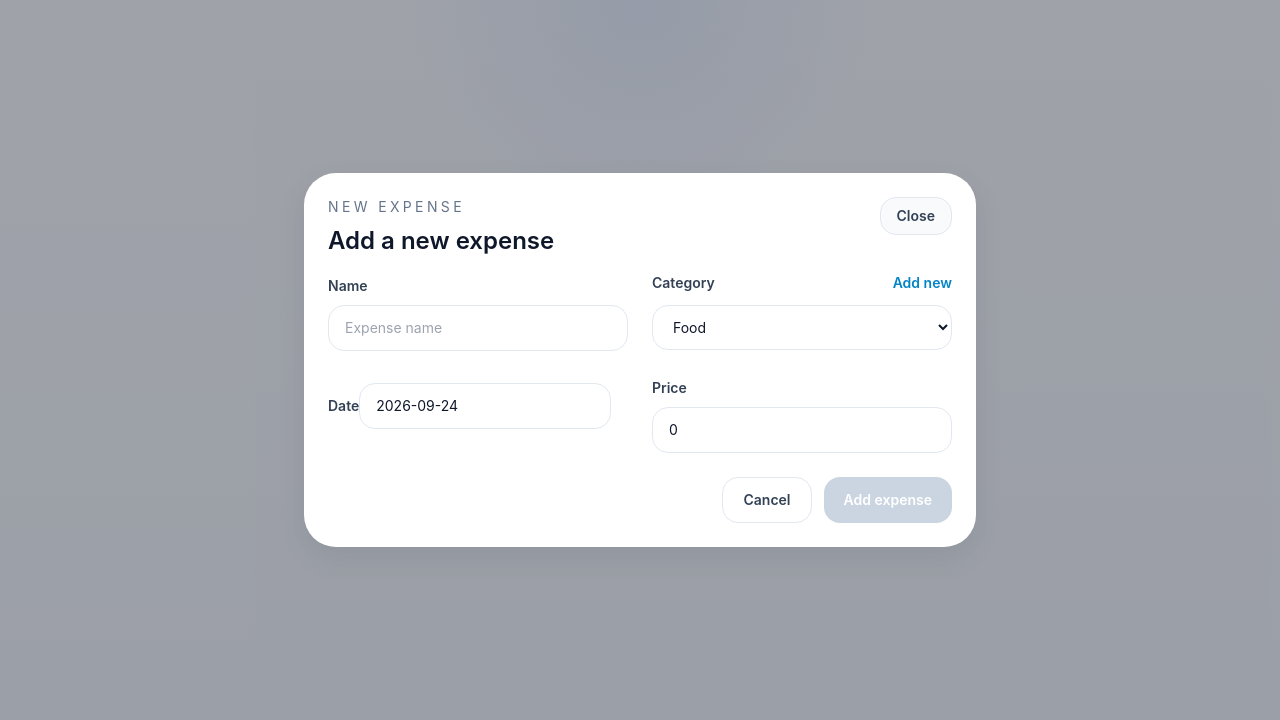
ExpenseModal › new expense modal › should enable submit button when form is valid
Type "Coffee" into the field with placeholder "Expense name" at (478, 328), box x1=328 y1=305 x2=628 y2=351
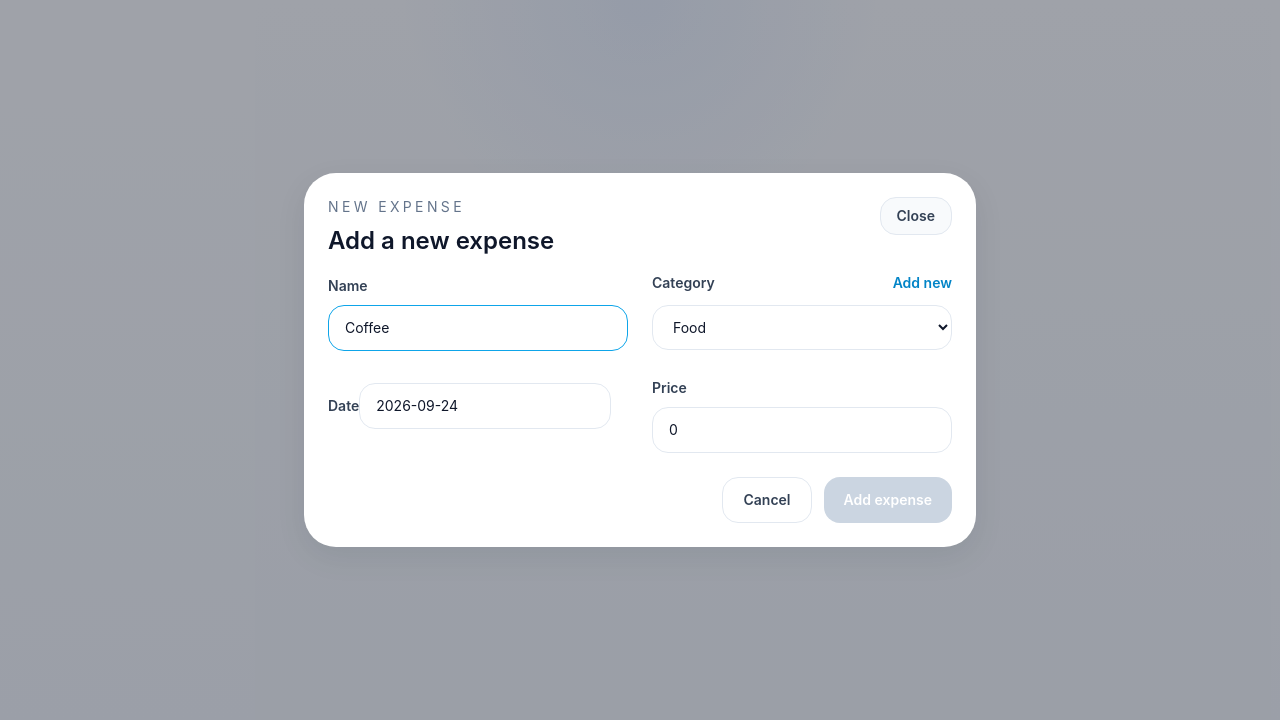
Replace the text in the number field showing "0" with "5.50" at (802, 430), box x1=652 y1=407 x2=952 y2=453
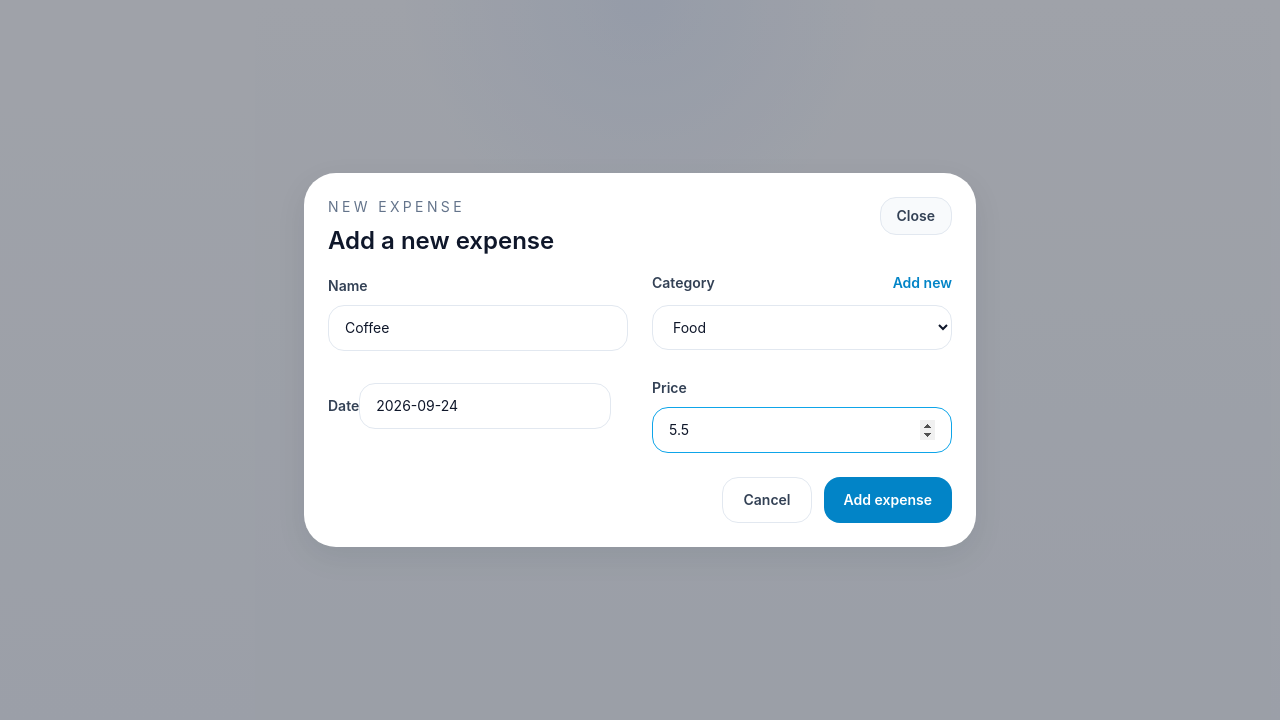
Check: the button "Add expense" is enabled, box x1=824 y1=477 x2=952 y2=523
